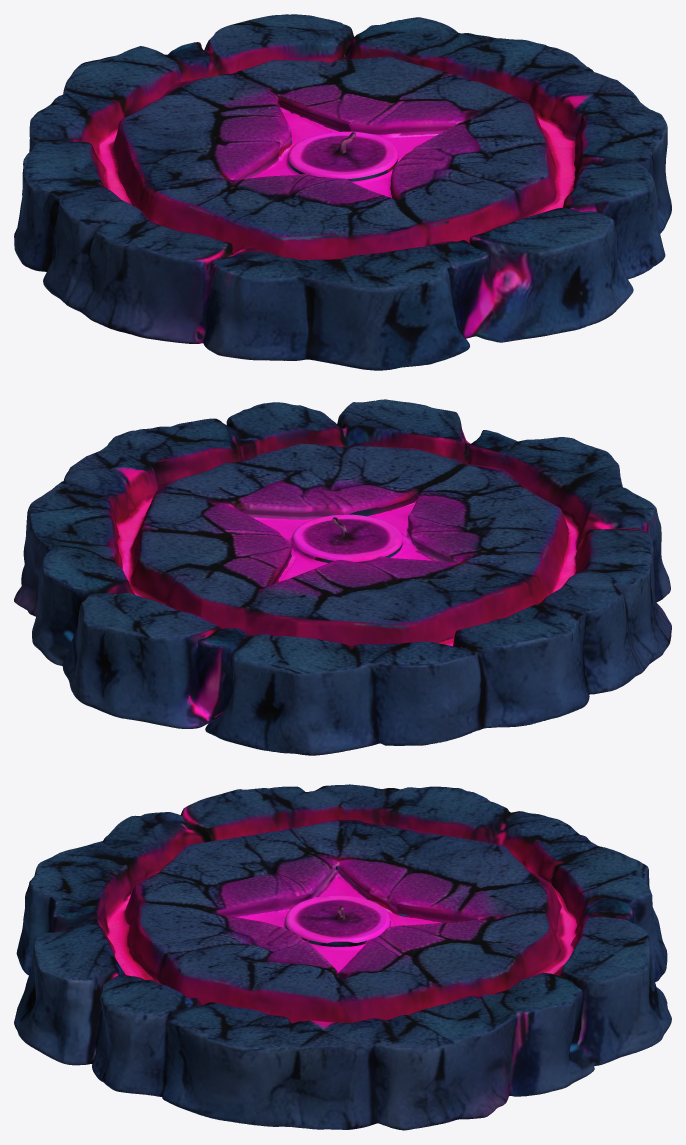
The model's file is island-shelf-generated-2026-05-17T17-41-15-040Z.high.glb.
3 renders of one model, top to bottom at view 1: azimuth 30°, elevation 25°; view 2: azimuth 150°, elevation 25°; view 3: azimuth 270°, elevation 25°, orthographic.
Parts seen in each view (by area): view 1: temp_mesh.ply; view 2: temp_mesh.ply; view 3: temp_mesh.ply.
Part boxes in pixels (x1,y1,x2,y2): temp_mesh.ply: [14, 14, 671, 370]; temp_mesh.ply: [14, 399, 671, 755]; temp_mesh.ply: [14, 784, 671, 1130].
Size of the model in its own units: 1.97 by 0.3038 by 1.97.
Materials: 1 (1 with a texture image).
